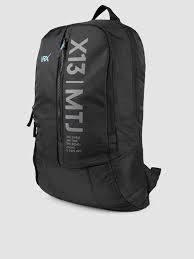backpack: (27, 4, 161, 211)
